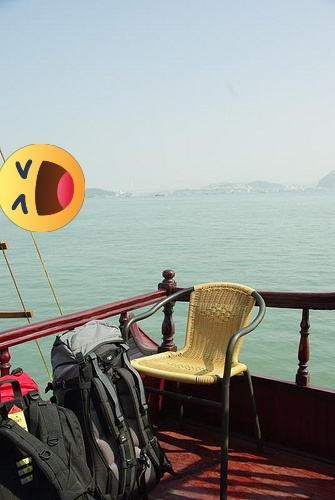haha: (0, 144, 85, 232)
